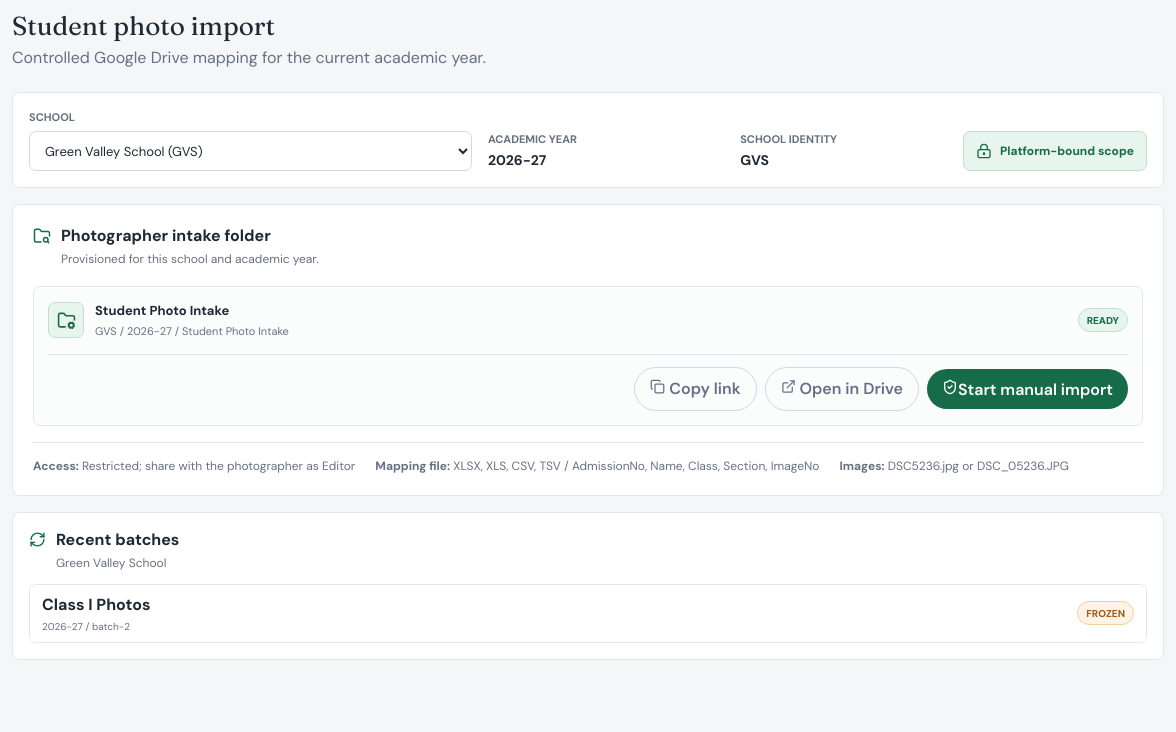
Test: PhotoImportPanel › shows problem-detail messages for forbidden import actions
Click the button "Class I Photos 2026-27 / batch-2 FROZEN": (96, 604) [30,585,1146,642]
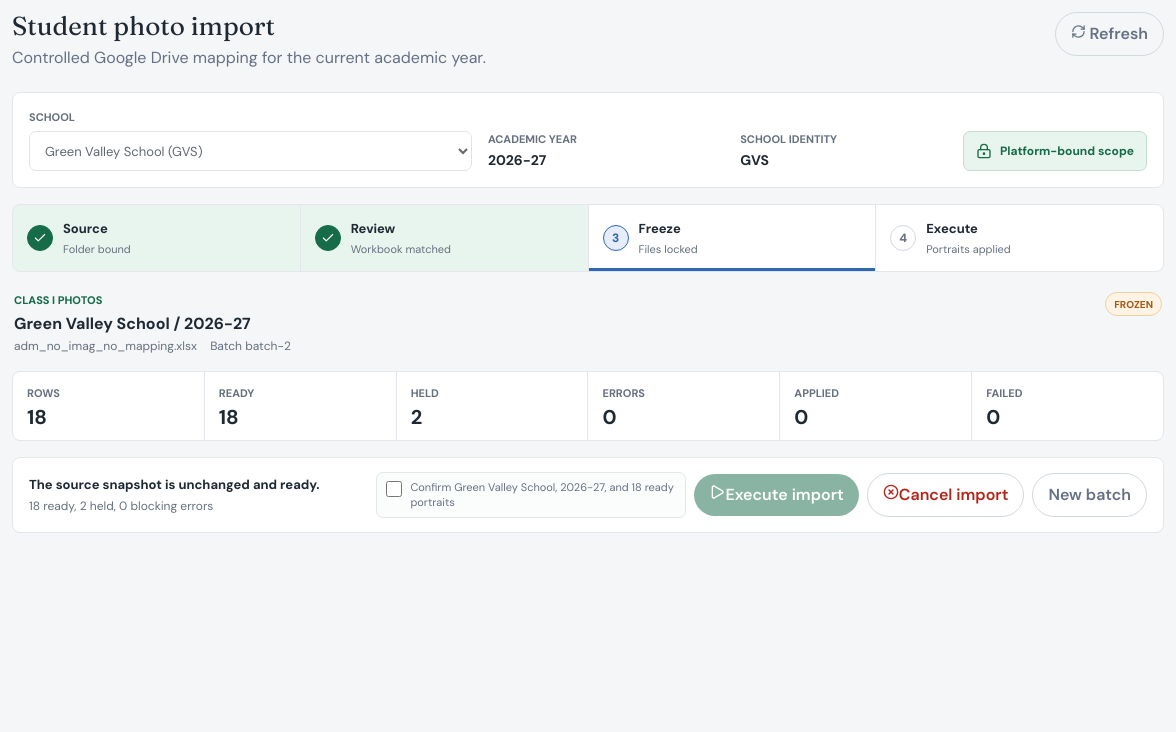
Click the checkbox labelled "Confirm Green Valley School, 2026-27, and 18 ready portraits": (394, 489) [386,481,402,497]
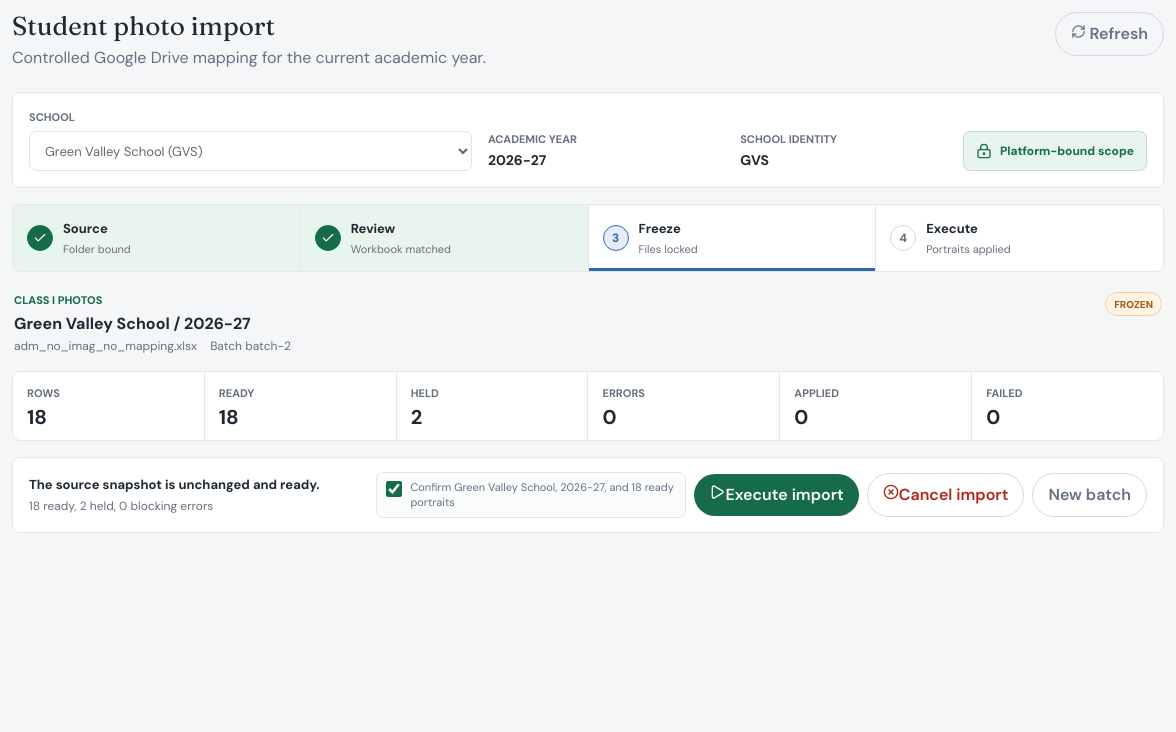
Click the button "Execute import": (777, 495) [694,474,859,516]
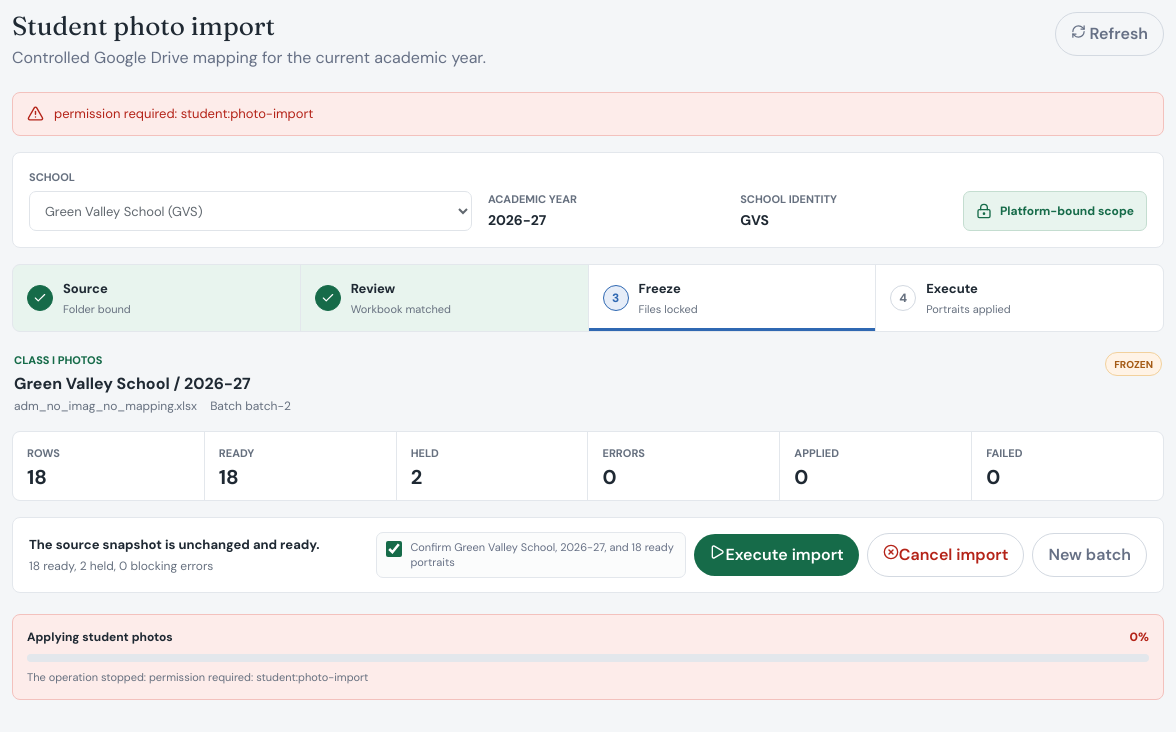
Expected: the text "permission required: student:photo-import" is shown, [54,104,313,124]
